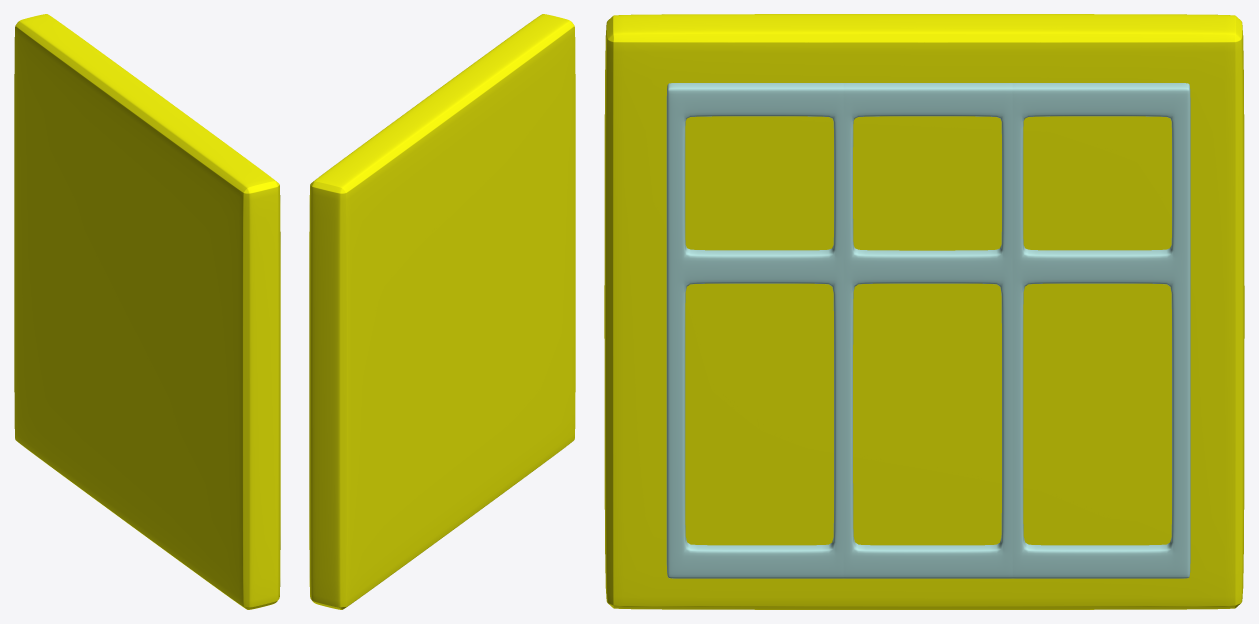
3 views of the same model, side by side, from view 1: azimuth 30°, elevation 25°; view 2: azimuth 150°, elevation 25°; view 3: azimuth 270°, elevation 25° (orthographic). The views are drawn at different scales.
Visible parts, largest first — view 1: polySurface143738; view 2: polySurface143738; view 3: polySurface143738.
Part boxes in pixels (bbox=[...]): polySurface143738: bbox=[14, 14, 280, 609]; polySurface143738: bbox=[309, 14, 575, 609]; polySurface143738: bbox=[604, 14, 1244, 609].
Bounding box in the file's own units: 0.1194 × 0.9995 × 0.9995.
